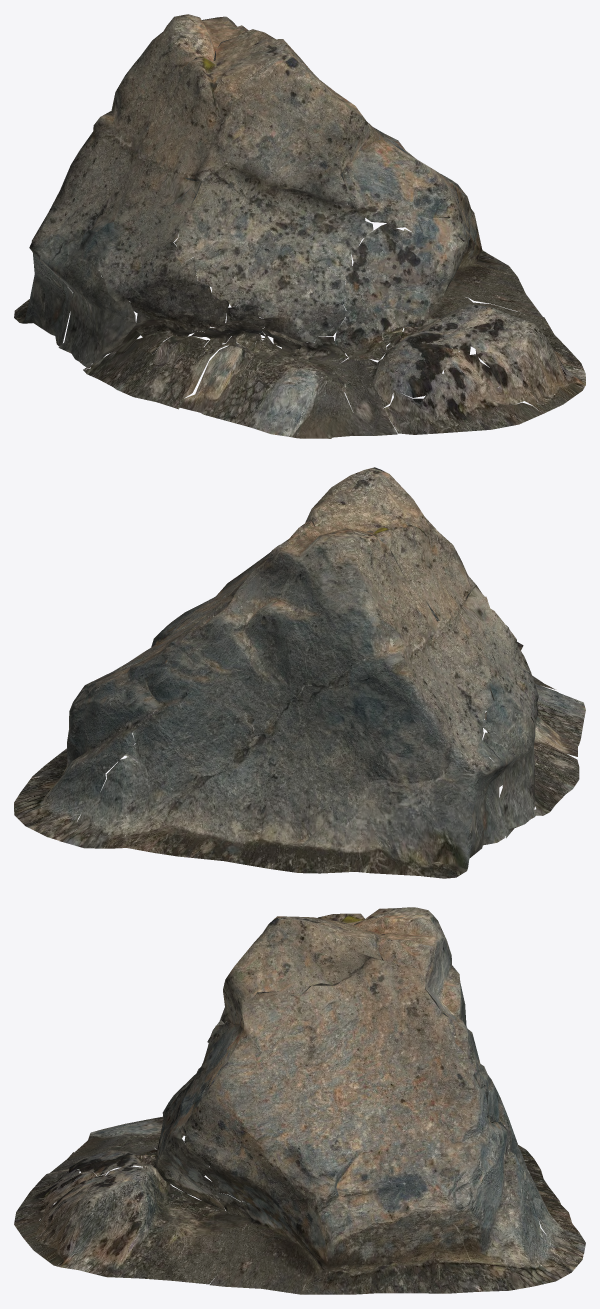
The model's file is basalt1.glb.
3 renders of one model, top to bottom at view 1: azimuth 30°, elevation 25°; view 2: azimuth 150°, elevation 25°; view 3: azimuth 270°, elevation 25°, orthographic. The views are drawn at different scales.
Parts seen in each view (by area): view 1: Basalt Rock Vulcanic A; view 2: Basalt Rock Vulcanic A; view 3: Basalt Rock Vulcanic A.
Part boxes in pixels (box(x1,y1,x2,y2)): Basalt Rock Vulcanic A: box(14, 14, 585, 438); Basalt Rock Vulcanic A: box(14, 467, 585, 878); Basalt Rock Vulcanic A: box(14, 907, 585, 1294).
Bounding box in the file's own units: 2.71 × 1.75 × 3.34.
Materials: 1 (1 with a texture image).
